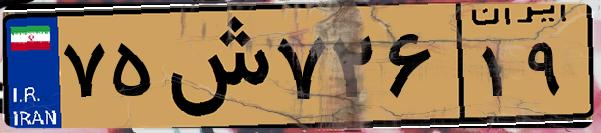1: (475, 38, 525, 113)
2: (330, 28, 385, 110)
5: (110, 28, 158, 98)
6: (385, 28, 445, 110)
7: (270, 28, 330, 110), (57, 26, 110, 100)
9: (525, 38, 570, 115)
ش: (158, 12, 270, 120)
